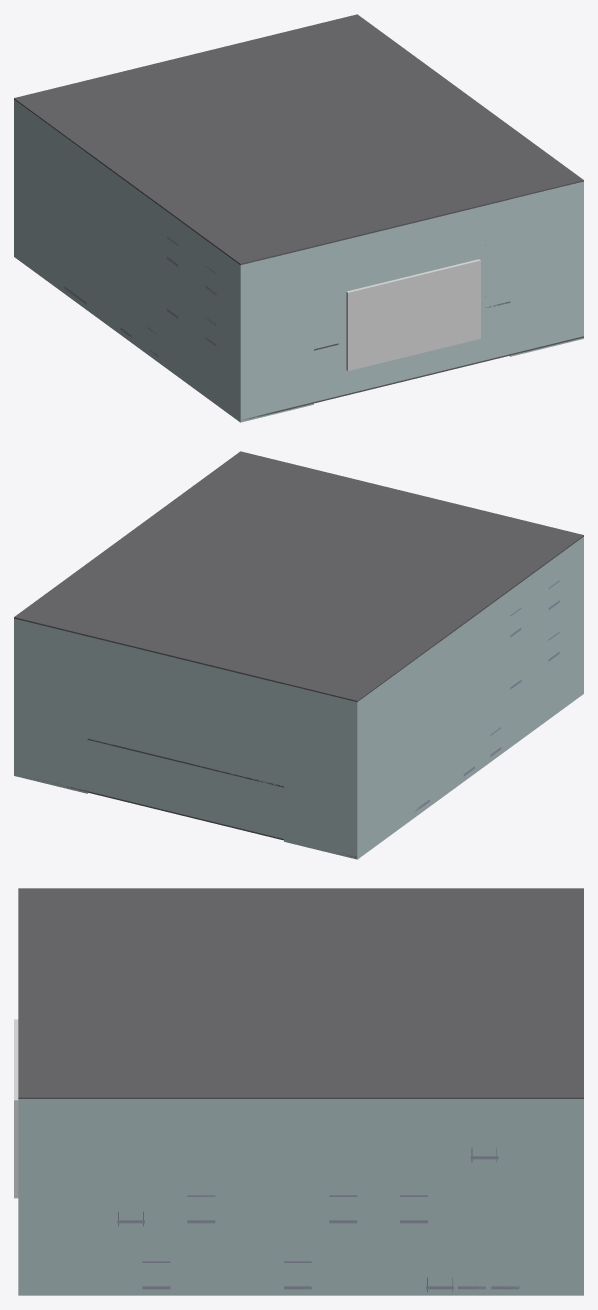
The model's file is hallPrison.fbx.
3 views of the same model, one above another, from view 1: azimuth 30°, elevation 25°; view 2: azimuth 150°, elevation 25°; view 3: azimuth 270°, elevation 25° (orthographic). The views are drawn at different scales.
Visible parts, largest first — view 1: roof, Wall1.001, Plane.020, Wall1, Plane.094, floor; view 2: roof, Wall1.001, Plane.021, Wall1; view 3: roof, Wall1, Plane.094.
Part boxes in pixels (x1=…): roof: x1=14, y1=14, x2=583, y2=264; Wall1.001: x1=14, y1=99, x2=313, y2=422; Plane.020: x1=314, y1=199, x2=510, y2=401; Wall1: x1=509, y1=181, x2=583, y2=356; Plane.094: x1=346, y1=259, x2=480, y2=370; floor: x1=242, y1=336, x2=583, y2=420; roof: x1=14, y1=451, x2=583, y2=702; Wall1.001: x1=284, y1=537, x2=583, y2=859; Plane.021: x1=87, y1=636, x2=283, y2=838; Wall1: x1=14, y1=618, x2=88, y2=793; roof: x1=18, y1=888, x2=583, y2=1098; Wall1: x1=18, y1=1099, x2=583, y2=1295; Plane.094: x1=14, y1=1019, x2=18, y2=1198.
Size of the model in its own units: 2801 by 1237 by 3225.
